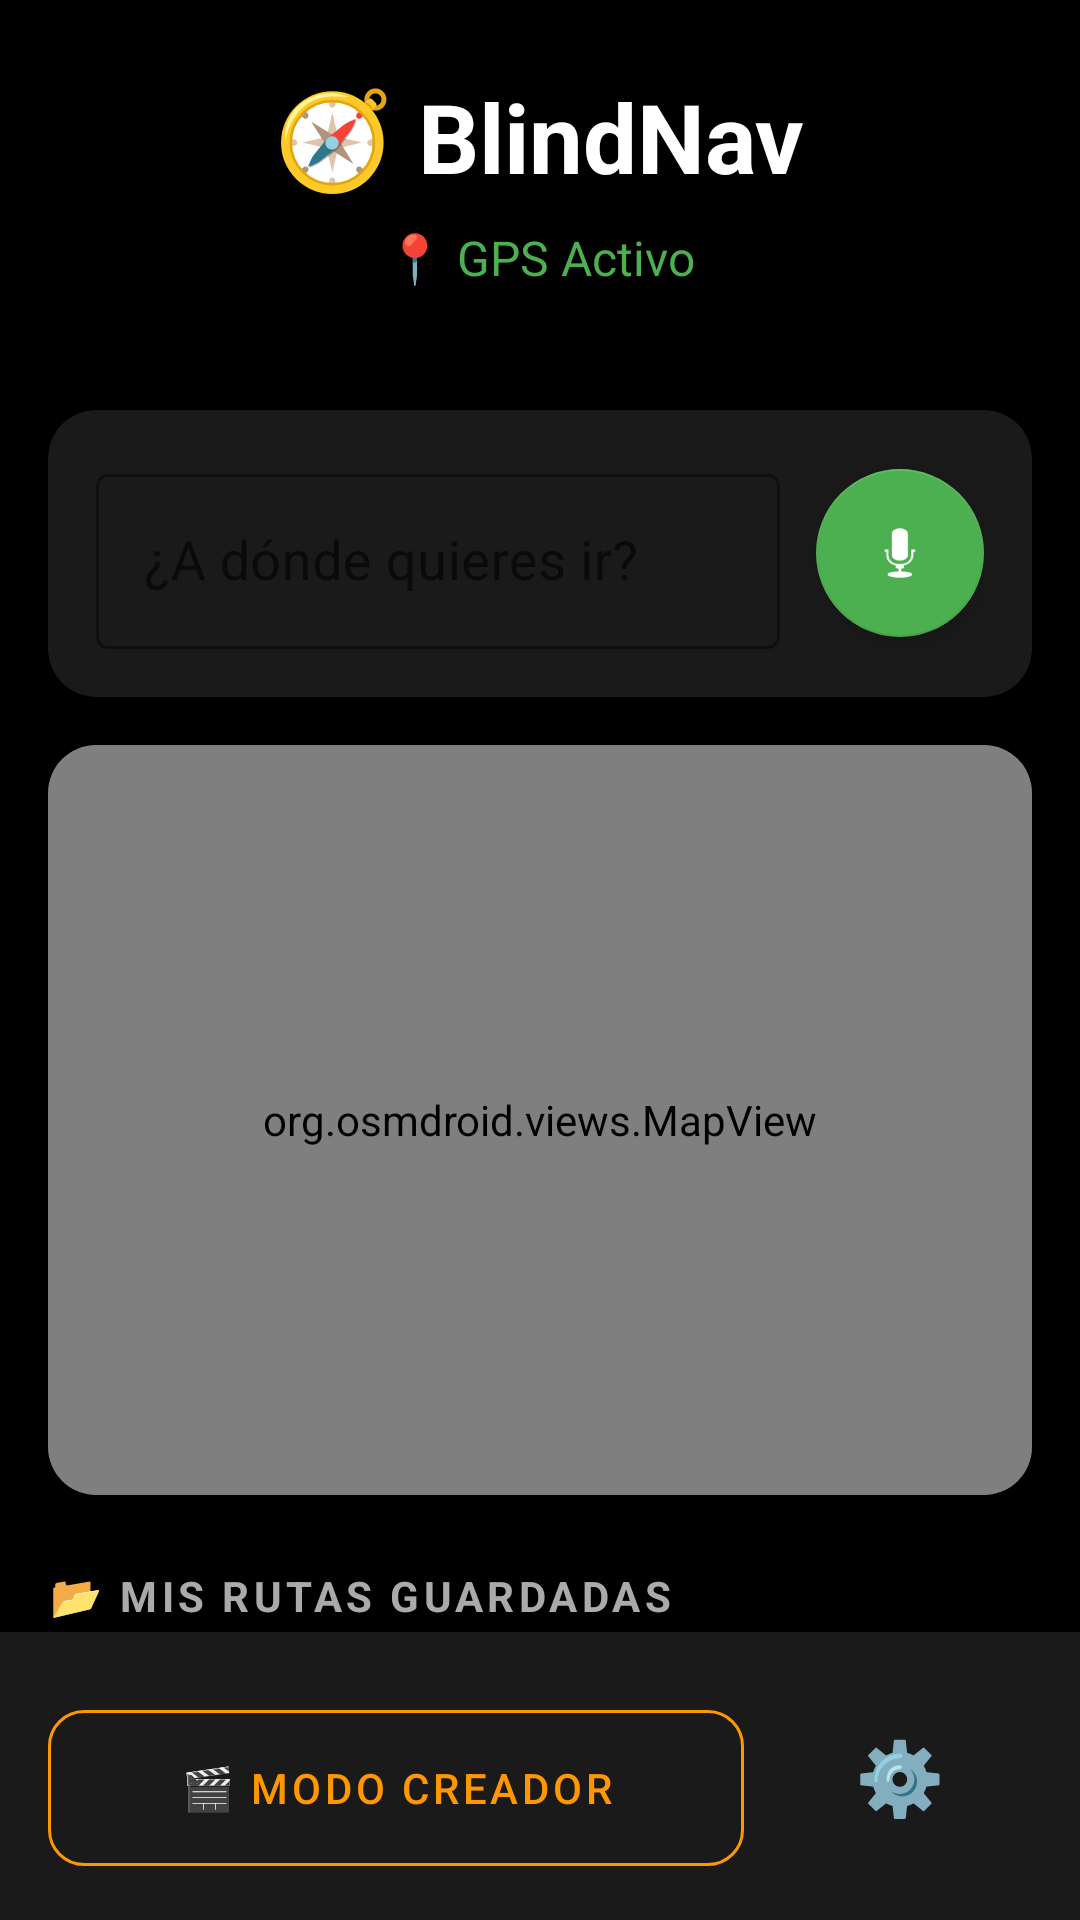

Icon click points for this 1080px×1920px phone screenshot, format (x,y):
Búsqueda por voz: (900,553)
